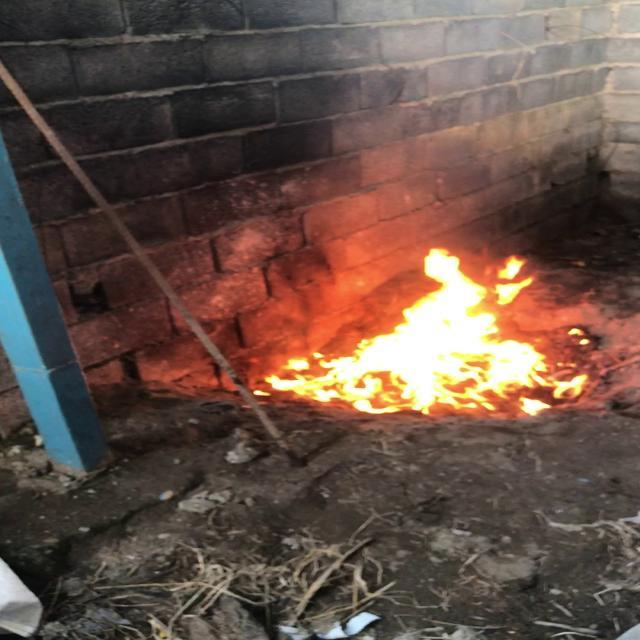Fire: (292, 255, 590, 408)
